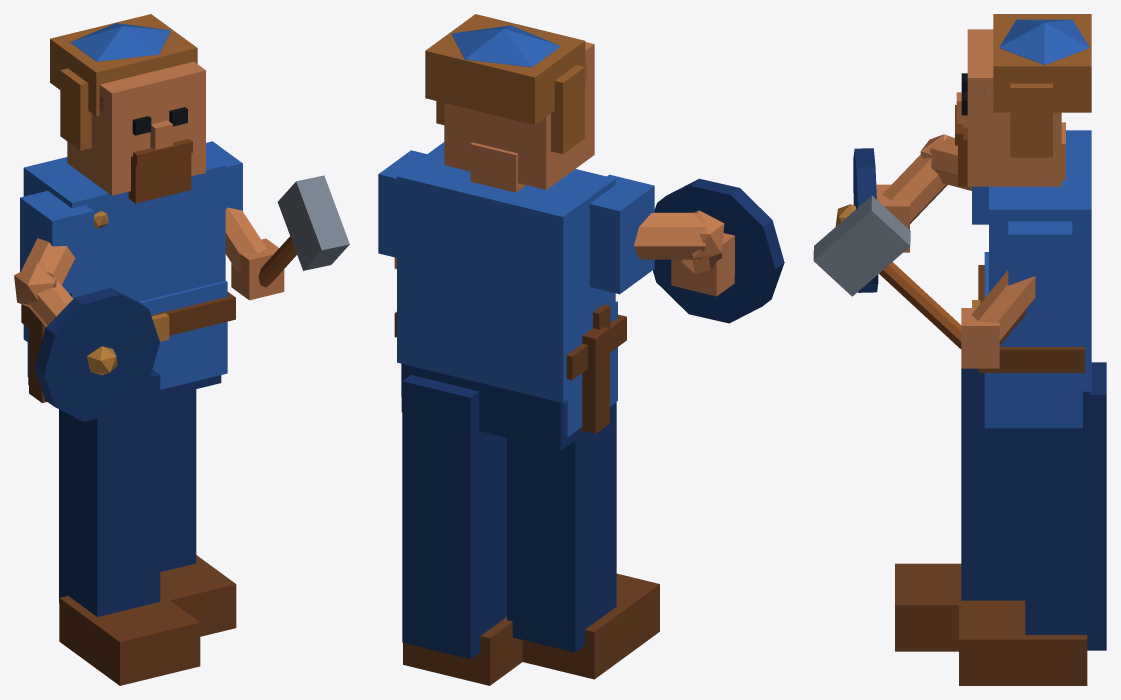
Rendered from teuton_skirmisher.glb.
The picture shows the model from 3 angles, left to right: view 1: azimuth 30°, elevation 25°; view 2: azimuth 150°, elevation 25°; view 3: azimuth 270°, elevation 25°; orthographic projection. The views are drawn at different scales.
Visible parts, largest first — view 1: 01_Gamba_Sinistra_Avanti, 11_Tunica_Blu_Busto, 40_Scudo_Rotondo, 21_Viso, 03_Stivale_Sinistro, 02_Gamba_Destra_Indietro, 13_Tunica_Blu_Falda_Destra, 26_Capelli, 53_Manica_Sinistra_Blu, 61_Testa_Ascia, 04_Stivale_Destro, 31_Cappuccio_Pelle (+15 smaller); view 2: 11_Tunica_Blu_Busto, 02_Gamba_Destra_Indietro, 01_Gamba_Sinistra_Avanti, 26_Capelli, 40_Scudo_Rotondo, 21_Viso, 03_Stivale_Sinistro, 53_Manica_Sinistra_Blu, 10_Bacino, 04_Stivale_Destro, 31_Cappuccio_Pelle, 54_Braccio_Sinistro_Visibile (+8 smaller); view 3: 02_Gamba_Destra_Indietro, 11_Tunica_Blu_Busto, 01_Gamba_Sinistra_Avanti, 04_Stivale_Destro, 21_Viso, 03_Stivale_Sinistro, 26_Capelli, 61_Testa_Ascia, 50_Manica_Destra_Blu, 13_Tunica_Blu_Falda_Destra, 28_Capelli_Lato_Destro, 31_Cappuccio_Pelle (+11 smaller).
Part boxes in pixels (x1,y1,x2,y2): 01_Gamba_Sinistra_Avanti: [59, 369, 160, 616]; 11_Tunica_Blu_Busto: [23, 151, 225, 342]; 40_Scudo_Rotondo: [34, 288, 159, 421]; 21_Viso: [67, 61, 205, 195]; 03_Stivale_Sinistro: [59, 593, 200, 685]; 02_Gamba_Destra_Indietro: [160, 389, 196, 571]; 13_Tunica_Blu_Falda_Destra: [147, 280, 227, 389]; 26_Capelli: [50, 14, 197, 116]; 53_Manica_Sinistra_Blu: [20, 191, 93, 293]; 61_Testa_Ascia: [277, 175, 349, 270]; 04_Stivale_Destro: [160, 555, 236, 636]; 31_Cappuccio_Pelle: [70, 23, 170, 61]; 11_Tunica_Blu_Busto: [397, 142, 615, 402]; 02_Gamba_Destra_Indietro: [402, 375, 506, 658]; 01_Gamba_Sinistra_Avanti: [507, 402, 616, 652]; 26_Capelli: [425, 14, 585, 124]; 40_Scudo_Rotondo: [653, 178, 784, 323]; 21_Viso: [444, 42, 594, 189]; 03_Stivale_Sinistro: [522, 573, 659, 679]; 53_Manica_Sinistra_Blu: [589, 174, 654, 294]; 10_Bacino: [401, 364, 610, 450]; 04_Stivale_Destro: [403, 617, 522, 685]; 31_Cappuccio_Pelle: [451, 25, 560, 67]; 54_Braccio_Sinistro_Visibile: [634, 212, 705, 259]; 02_Gamba_Destra_Indietro: [1025, 362, 1106, 650]; 11_Tunica_Blu_Busto: [989, 130, 1091, 391]; 01_Gamba_Sinistra_Avanti: [961, 368, 1025, 600]; 04_Stivale_Destro: [959, 598, 1087, 685]; 21_Viso: [967, 29, 1061, 186]; 03_Stivale_Sinistro: [895, 563, 1023, 651]; 26_Capelli: [993, 14, 1091, 112]; 61_Testa_Ascia: [813, 195, 910, 296]; 50_Manica_Destra_Blu: [1008, 221, 1072, 312]; 13_Tunica_Blu_Falda_Destra: [984, 290, 1082, 428]; 28_Capelli_Lato_Destro: [1010, 83, 1052, 157]; 31_Cappuccio_Pelle: [999, 19, 1089, 64].
Size of the model in its own units: 1.67 by 3.23 by 1.37.
